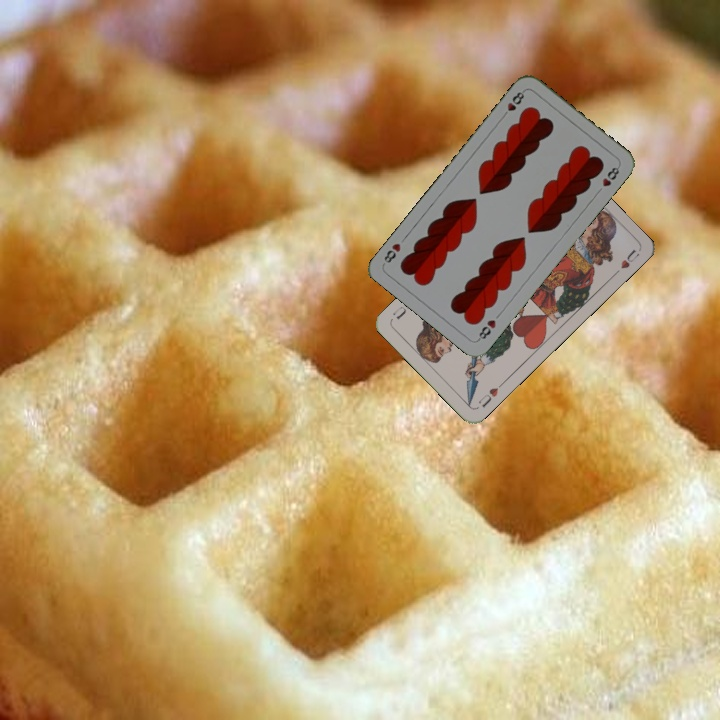H8: (498, 86, 528, 121), (474, 315, 499, 343)
HU: (474, 383, 501, 410)
